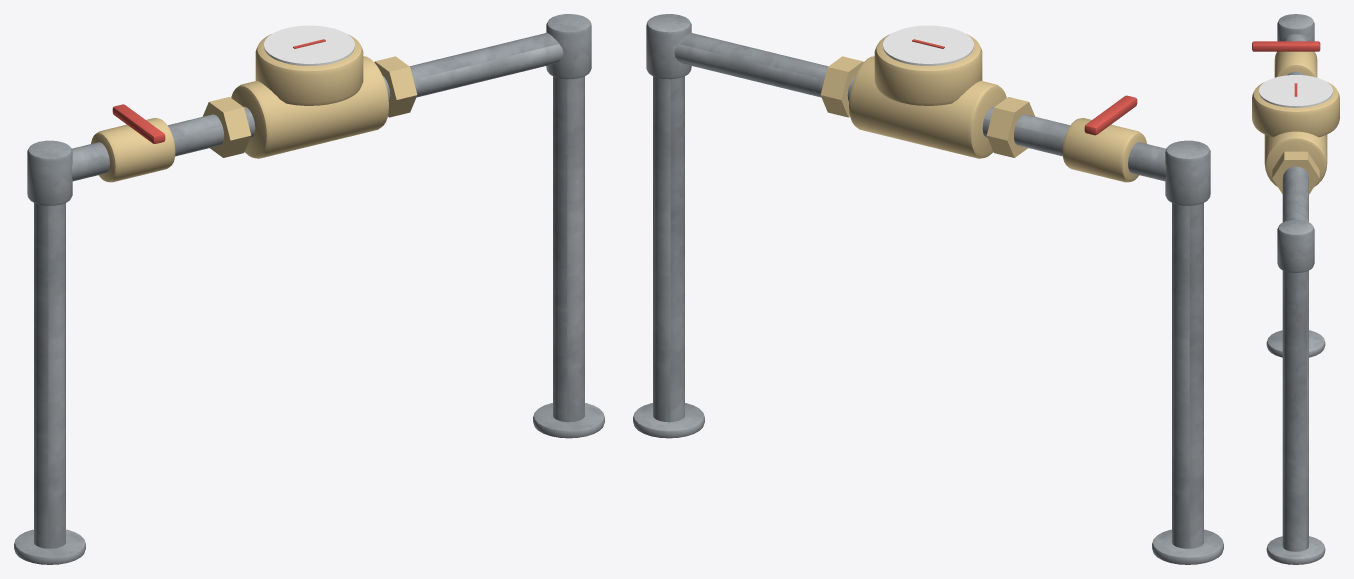
Rendered from HID-BOM-004_anim.glb.
3 renders of one model, left to right at view 1: azimuth 30°, elevation 25°; view 2: azimuth 150°, elevation 25°; view 3: azimuth 270°, elevation 25°, orthographic. The views are drawn at different scales.
Visible parts, largest first — view 1: HID-BOM-004_anim2, HID-BOM-004_anim1; view 2: HID-BOM-004_anim2, HID-BOM-004_anim1; view 3: HID-BOM-004_anim2, HID-BOM-004_anim1.
Boxes of the visible parts, bbox=[...] form: HID-BOM-004_anim2: bbox=[14, 14, 604, 564]; HID-BOM-004_anim1: bbox=[112, 104, 165, 143]; HID-BOM-004_anim2: bbox=[633, 14, 1223, 564]; HID-BOM-004_anim1: bbox=[1084, 95, 1137, 135]; HID-BOM-004_anim2: bbox=[1252, 14, 1339, 564]; HID-BOM-004_anim1: bbox=[1252, 41, 1320, 51].
Size of the model in its own units: 0.56 by 0.4086 by 0.09.
4 materials, 1 textured.
